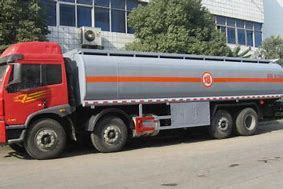oil truck: (0, 26, 281, 160)
